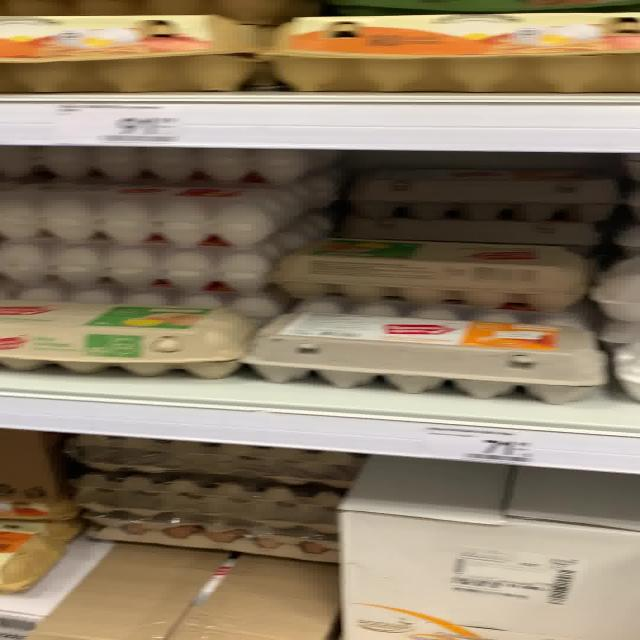egg box: (236, 309, 606, 404), (258, 11, 634, 90), (275, 235, 594, 309), (2, 9, 260, 94), (2, 296, 262, 379), (2, 173, 300, 242)
